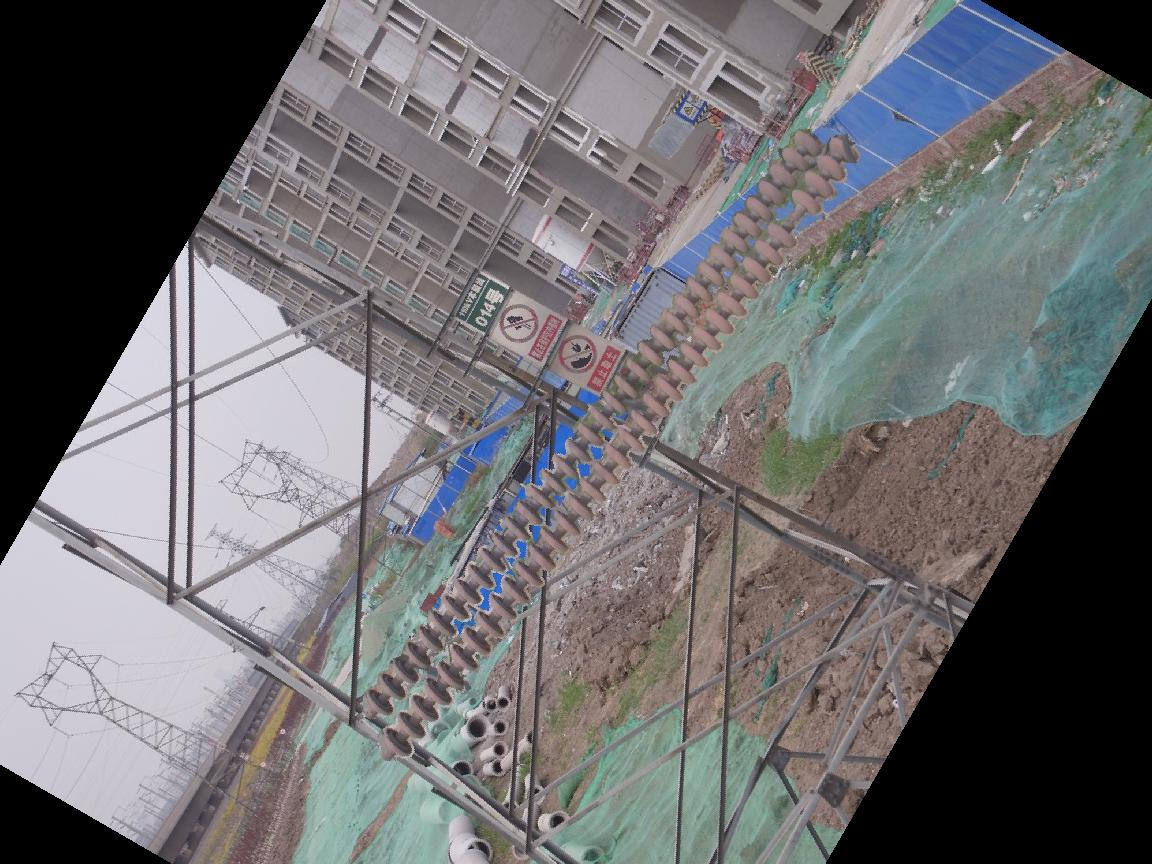insulator: (356, 126, 860, 762)
insulator_stringdrop: (766, 187, 823, 250)
